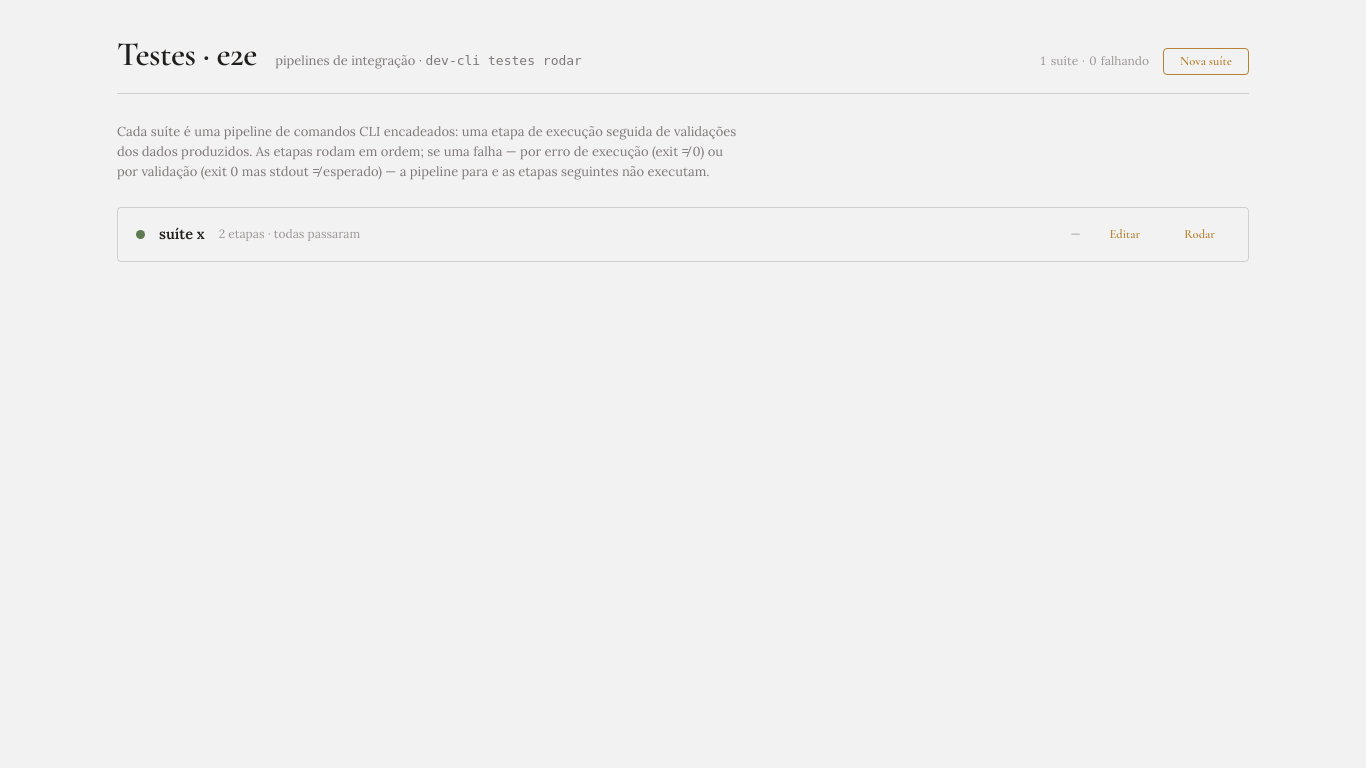
it: Testes › histórico com execuções anteriores lista mais recente primeiro e expande os passos ao clicar
Step 1. Click the text "suíte x" → (182, 234), box [159, 223, 205, 245]
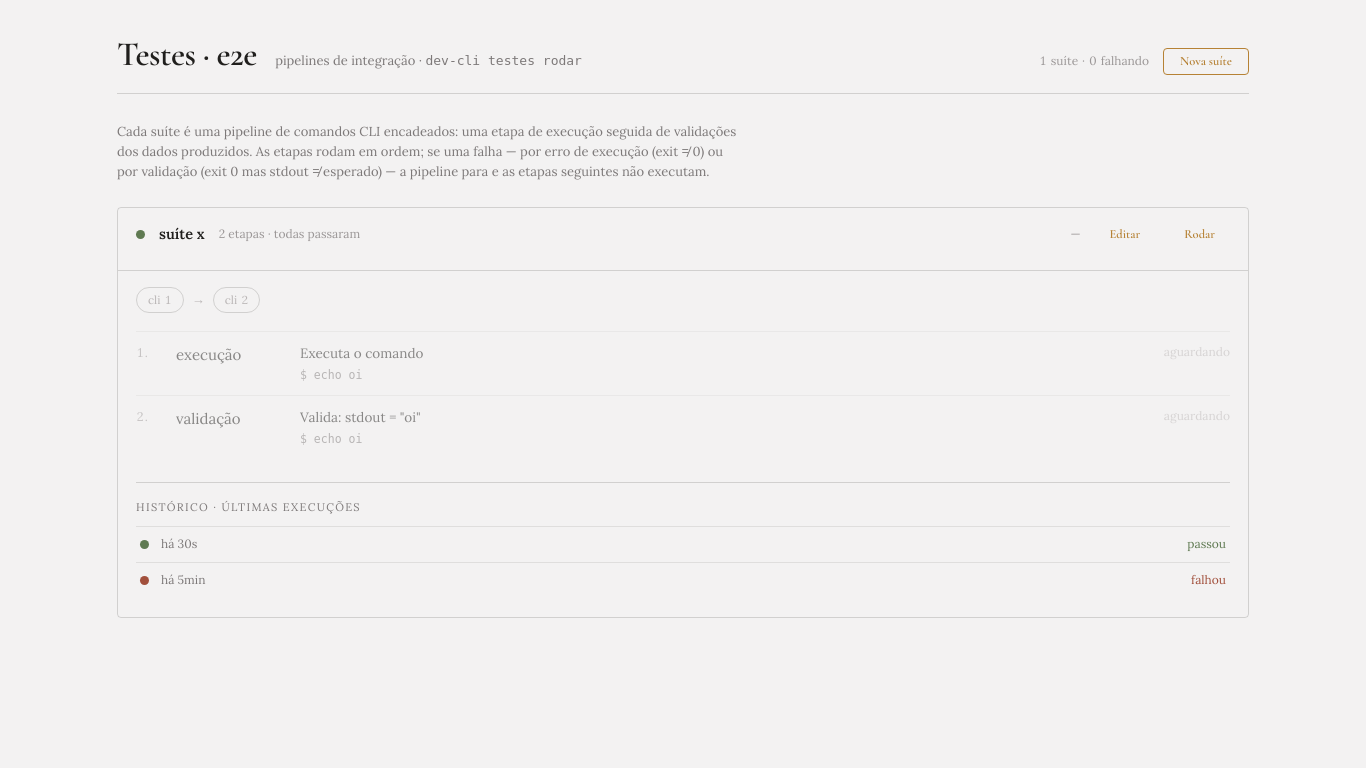
Expected: the text "passou" is shown, [1187, 535, 1226, 554]
Expected: the text "falhou" is shown
Step 2. Click the text "falhou" → (1209, 580), box [1191, 571, 1226, 589]
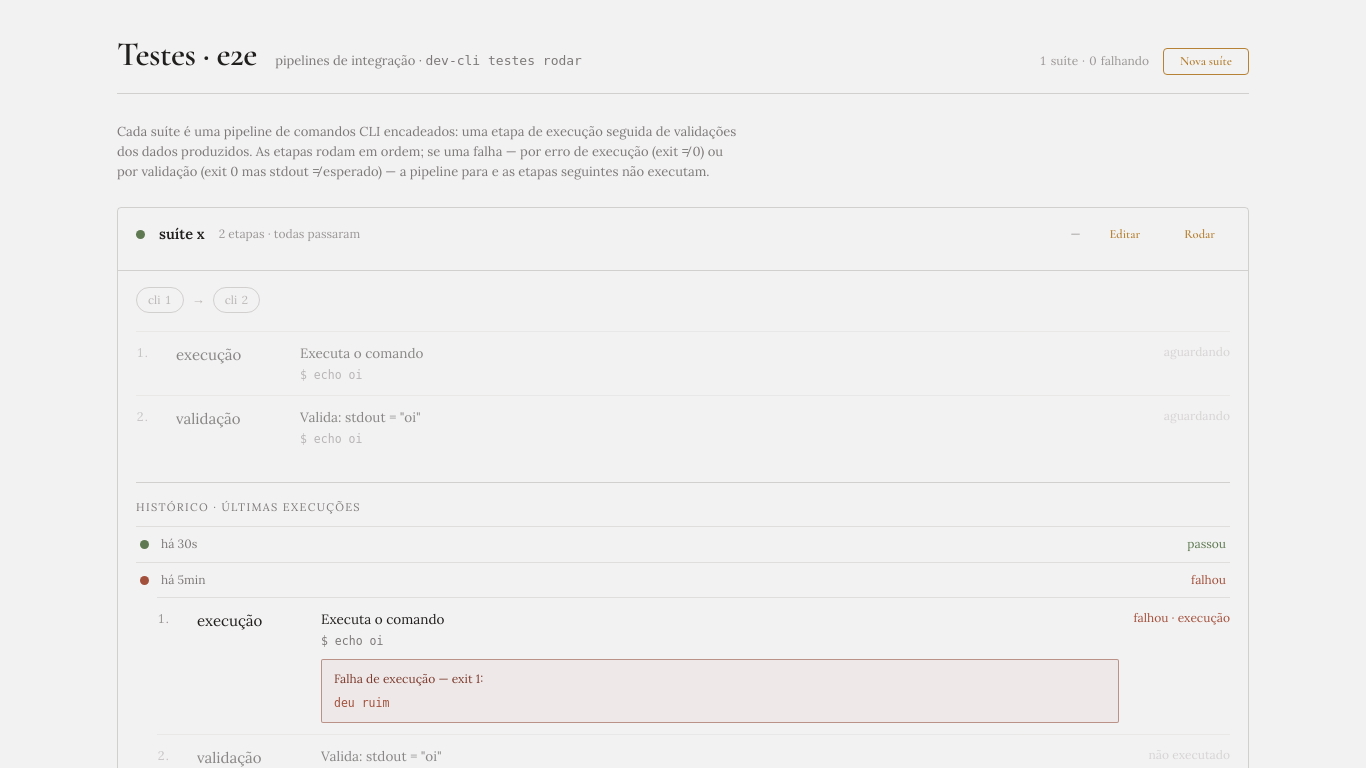
Expected: the text "Falha de execução — exit 1:" is shown, [334, 671, 483, 686]
